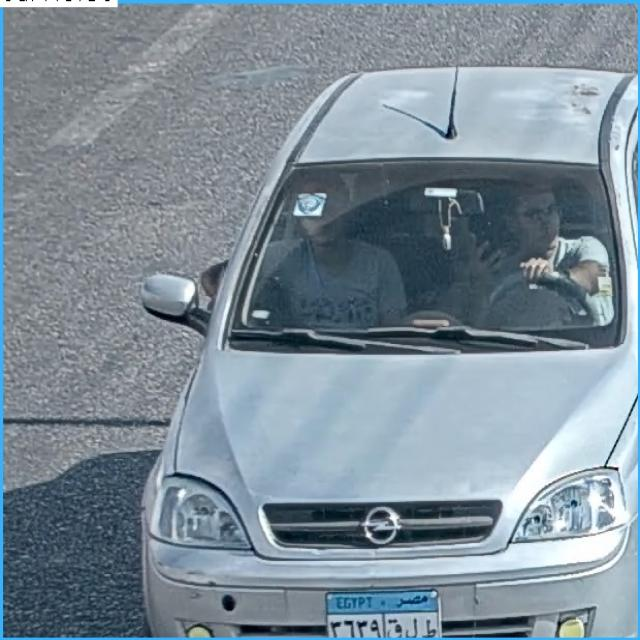windshield: (228, 169, 624, 354)
